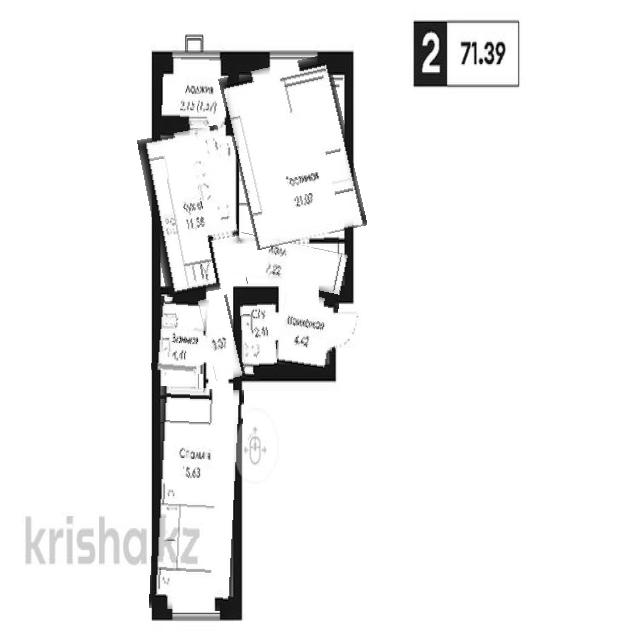balcony: (156, 57, 233, 125)
bathroom: (153, 297, 207, 373), (241, 294, 276, 379)
hallway: (235, 237, 352, 290), (276, 294, 337, 375), (202, 295, 241, 380)
kitchen: (145, 128, 241, 296)
living_room: (227, 59, 358, 245), (152, 387, 241, 611)
